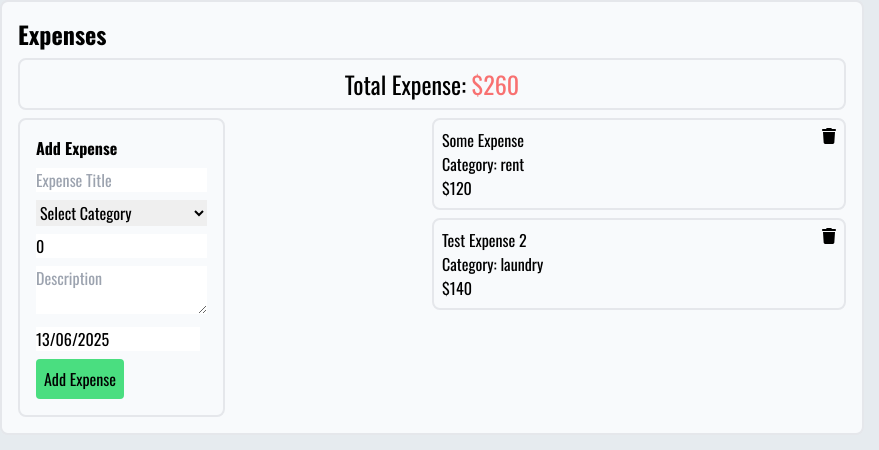
List Expenses › Delete Expense › When the delete expense button is clicked › should remove the expense from the list
Click the picture with test id "delete-expense-123" at point(829, 136), box [822, 128, 836, 144]
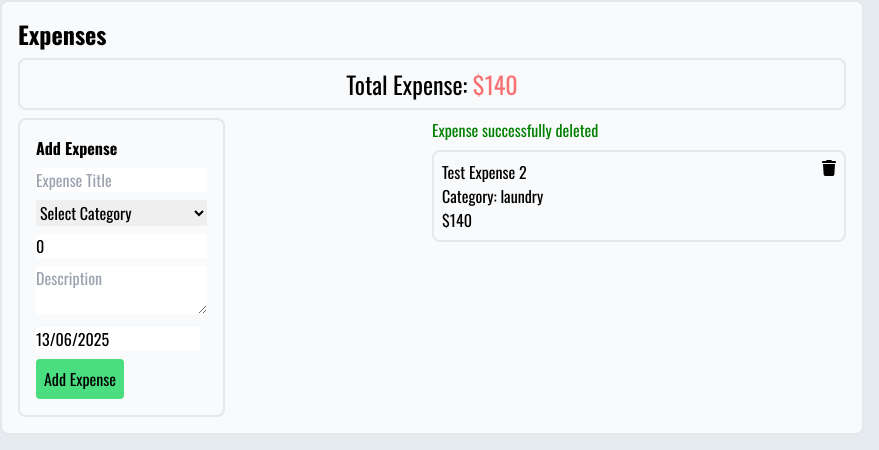
Now the text with test id "return-promise-message" reads "Expense successfully deleted", box [432, 118, 598, 142]
Now the text "Some Expense" is gone
